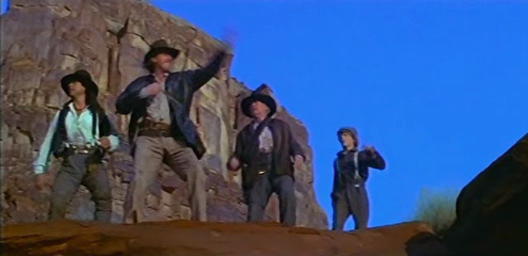face: (157, 52, 174, 72), (68, 80, 84, 97), (338, 131, 354, 147), (249, 101, 265, 116)
ls: (1, 1, 528, 256)
person: (115, 39, 229, 224), (31, 69, 120, 222), (226, 91, 306, 226), (331, 126, 386, 231)
